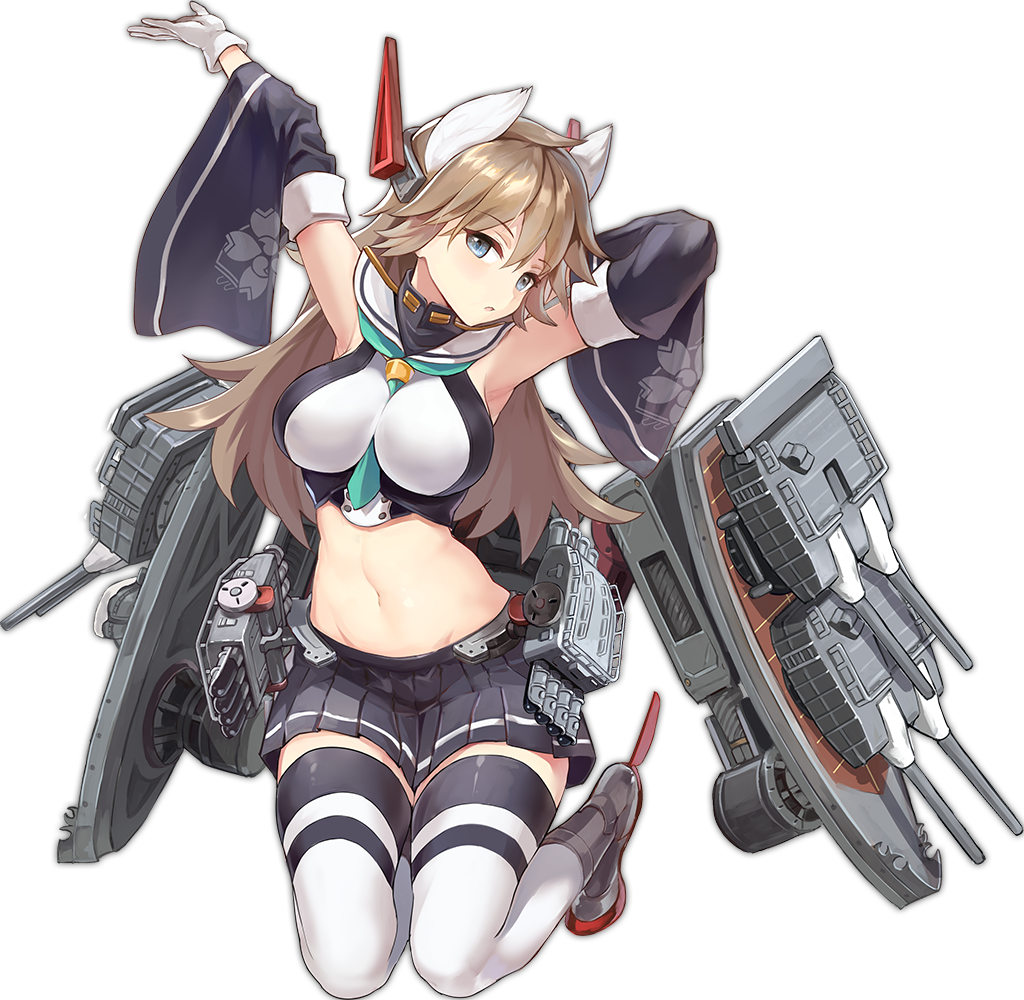person: (120, 96, 708, 1000)
